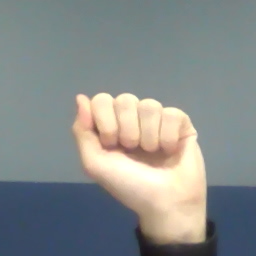A: (70, 90, 217, 203)
